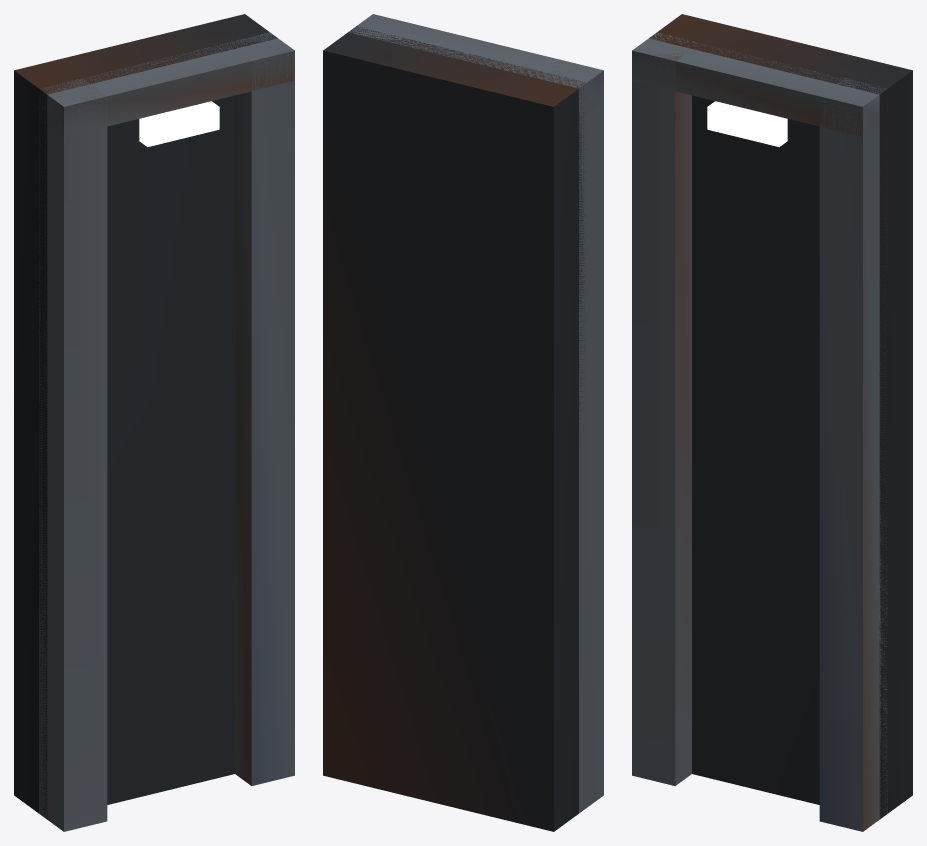
File: door_frame.glb
3 views of the same model, side by side, from view 1: azimuth 30°, elevation 25°; view 2: azimuth 150°, elevation 25°; view 3: azimuth 330°, elevation 25° (orthographic).
Parts seen in each view (by area): view 1: door_frame; view 2: door_frame; view 3: door_frame.
Part boxes in pixels (<box>): door_frame: <box>14,14,294,831</box>; door_frame: <box>323,14,603,831</box>; door_frame: <box>632,14,912,831</box>.
Size of the model in its own units: 32 by 96 by 13.
